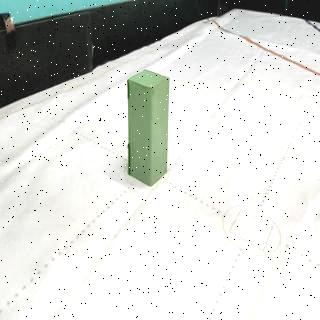greenbox: (128, 70, 170, 188)
